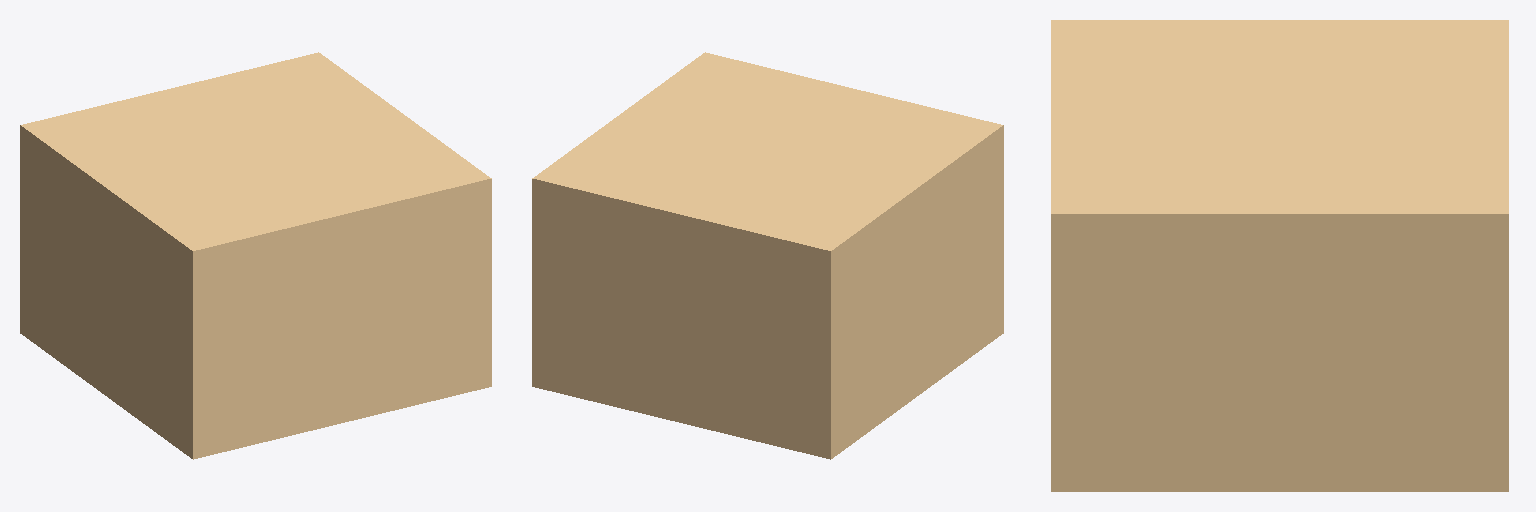
URDF robot description (box):
<?xml version="1.0" ?>
<robot name="box">
  <link name="baselink">
    <inertial>
      <origin rpy="0 0 0" xyz="0 0 0"/>
       <mass value=".0"/>
       <inertia ixx="0" ixy="0" ixz="0" iyy="0" iyz="0" izz="0"/>
    </inertial>

    <visual>
      <origin rpy="0 0 0" xyz="0.0 0 0.1"/>
      <geometry>
        <box size="0.3 0.3 0.2"/>
      </geometry>
      <material name="panda_white">
        <color rgba="1. 0.87 0.68 1.0"/>
      </material>
    </visual>

    <collision concave="yes">
      <origin rpy="0 0 0" xyz="0 0 0.1"/>
      <geometry>
        <box size="0.3 0.3 0.2"/>
      </geometry>
    </collision>

  </link>
</robot>

--- What the picture shows (computed from the rendered views, not written in the file) ---
The picture shows the robot from 3 angles, left to right: view 1: azimuth 30°, elevation 25°; view 2: azimuth 150°, elevation 25°; view 3: azimuth 270°, elevation 25°; orthographic projection.
Model box with 1 links and 0 joints (none), rooted at baselink, posed every joint at zero.
Visible links, largest first — view 1: baselink; view 2: baselink; view 3: baselink.
Boxes of the visible links, left/top/right/bottom form: baselink: left=20, top=52, right=491, bottom=459; baselink: left=532, top=52, right=1003, bottom=459; baselink: left=1051, top=20, right=1508, bottom=491.
Size in the robot's own frame: 0.3 by 0.3 by 0.2 metres.
Geometry: primitives only (box / cylinder / sphere), no mesh files.